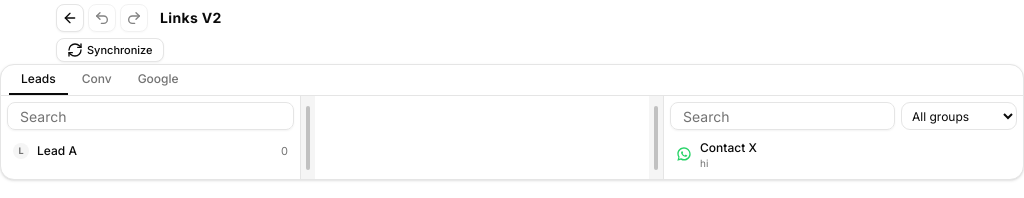
Test: Links V2 — lead/conversation icons are links, names just select (like before) › clicking the lead NAME (not the icon) still just selects the row, like before
What coordinates should you click on to do the following:
click the text "Lead A"
I would click on:
 (57, 150)
Its box is [37,143,77,158].
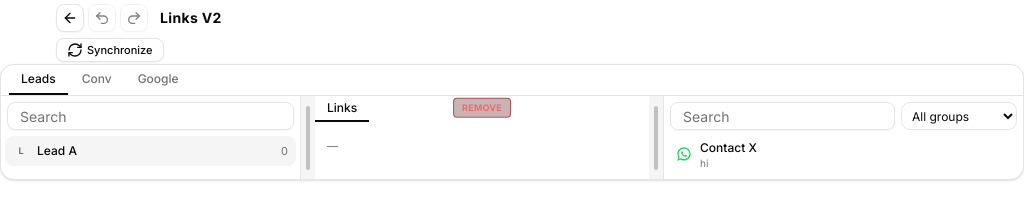
Result: the button "Links" is shown at [315,96,369,122]
